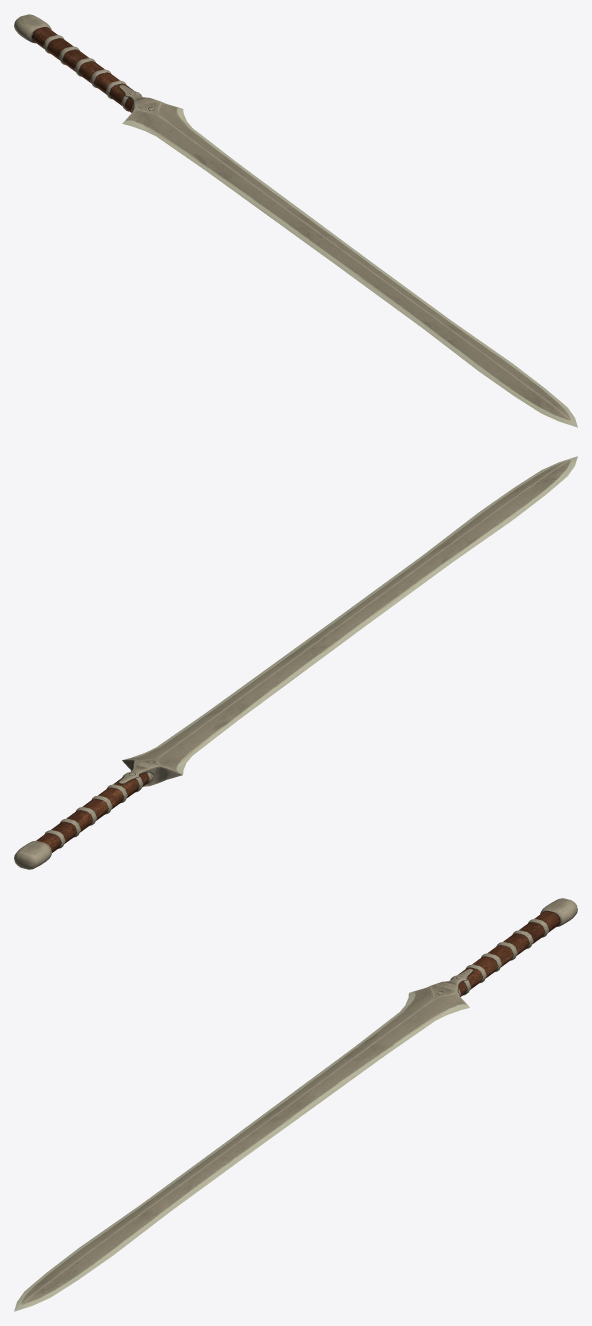
The model's file is Longsword5Lod2.FBX.
3 renders of one model, top to bottom at view 1: azimuth 30°, elevation 25°; view 2: azimuth 150°, elevation 25°; view 3: azimuth 330°, elevation 25°, orthographic.
Parts seen in each view (by area): view 1: Longsword5Lod2; view 2: Longsword5Lod2; view 3: Longsword5Lod2.
Part boxes in pixels (x1,y1,x2,y2): Longsword5Lod2: [14, 14, 577, 427]; Longsword5Lod2: [14, 456, 577, 869]; Longsword5Lod2: [14, 898, 577, 1311].
Size of the model in its own units: 0.0905 by 0.0265 by 1.42.
